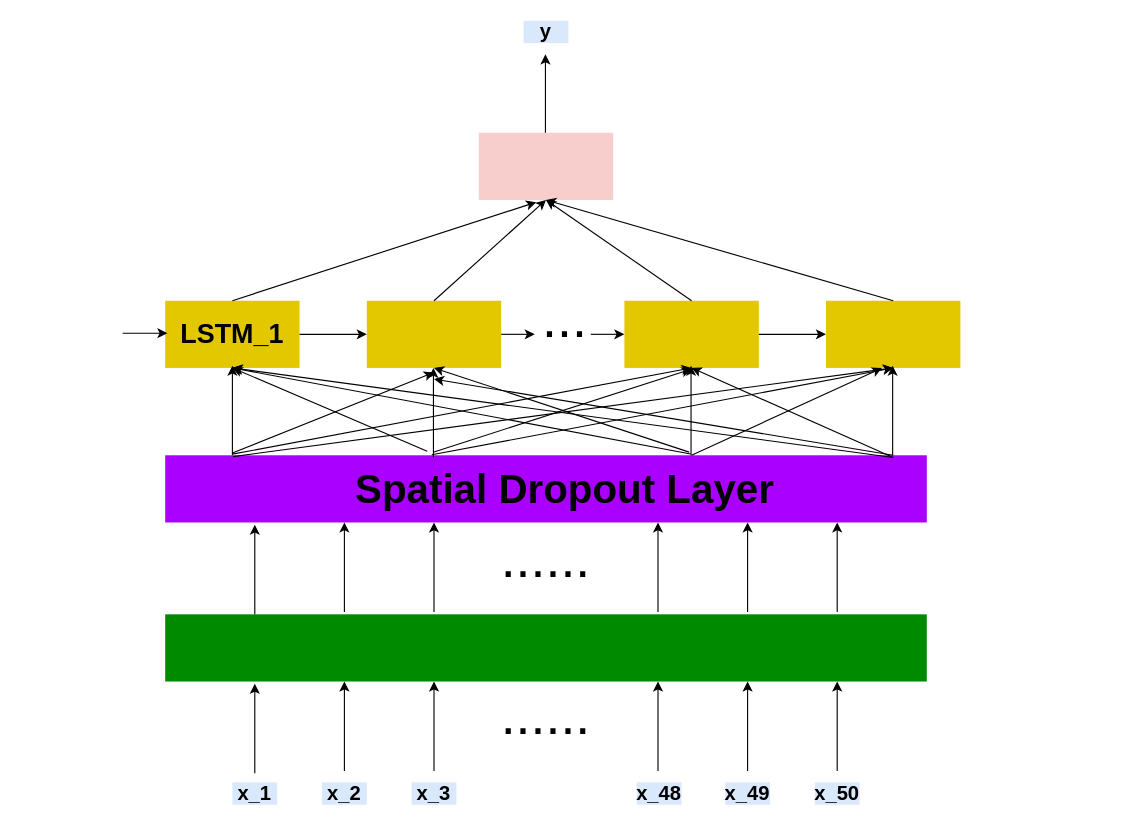
The diagram is 1126 pixels wide and 824 high, and some of its shapes have lost their labels. The box of each missing label's shape, as (x1, y1, x2, y2) in pixels:
Embedding Layer: (165, 614, 926, 681)
LSTM_100: (825, 300, 960, 367)
LSTM_2: (366, 300, 501, 367)
LSTM_99: (624, 300, 758, 367)
SIGMOID: (478, 132, 613, 199)
